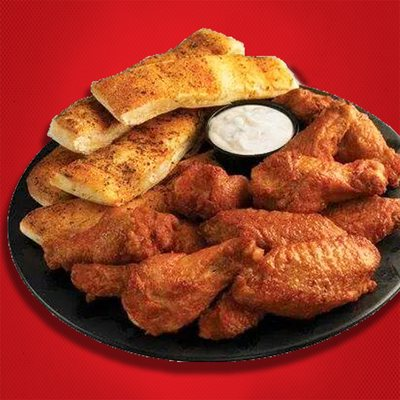sandwich: (5, 23, 400, 370)
